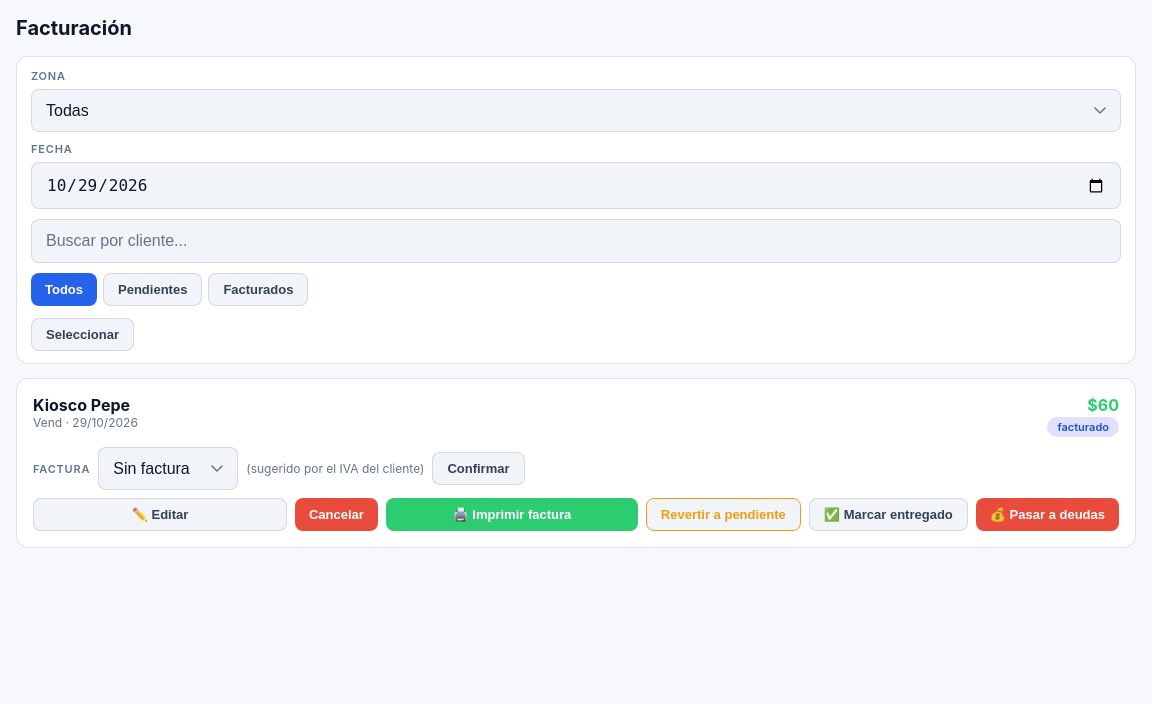
Test: REQ-BUL Facturación (edición) › AC-BUL-1 solo el producto con bulto x12 muestra el botón (el de bulto x1 no)
This screenshot has width=1152, height=704.
Click the button "✏️ Editar" at (160, 514), box top-left (33, 498), bottom-right (287, 531)
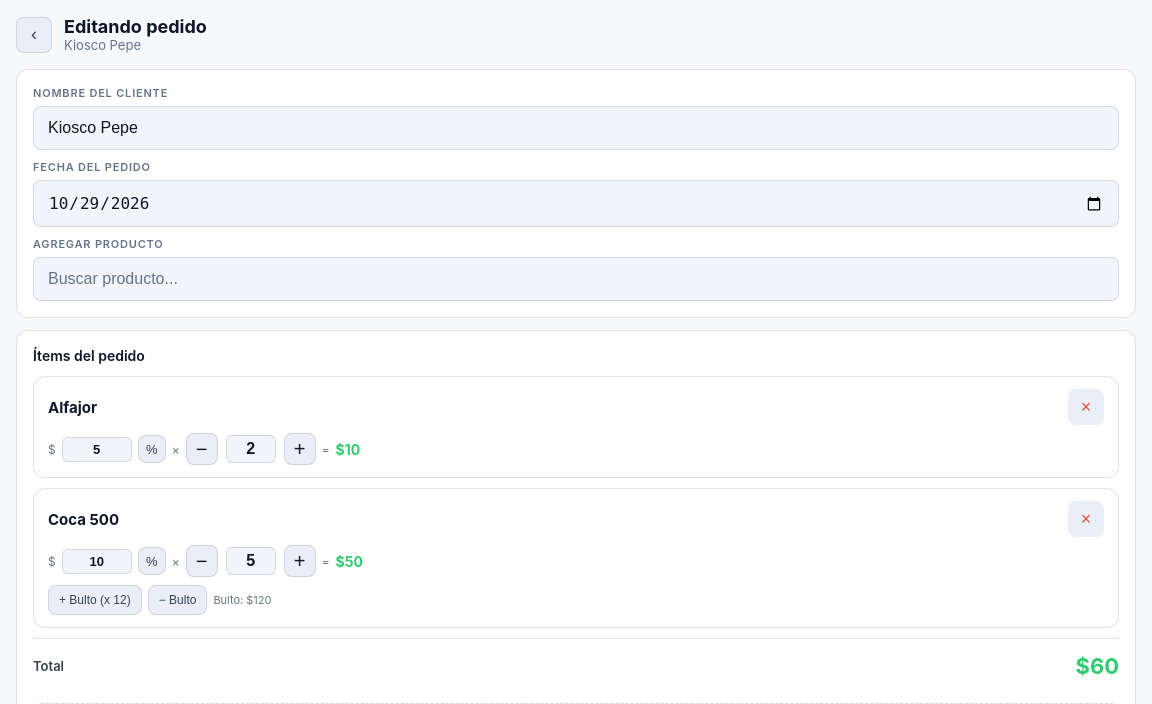
Now the text "Editando pedido" is shown, box top-left (64, 16), bottom-right (207, 37)
Now the button with test id "bulto-mas" reads "+ Bulto (x 12)", box top-left (48, 585), bottom-right (142, 615)
